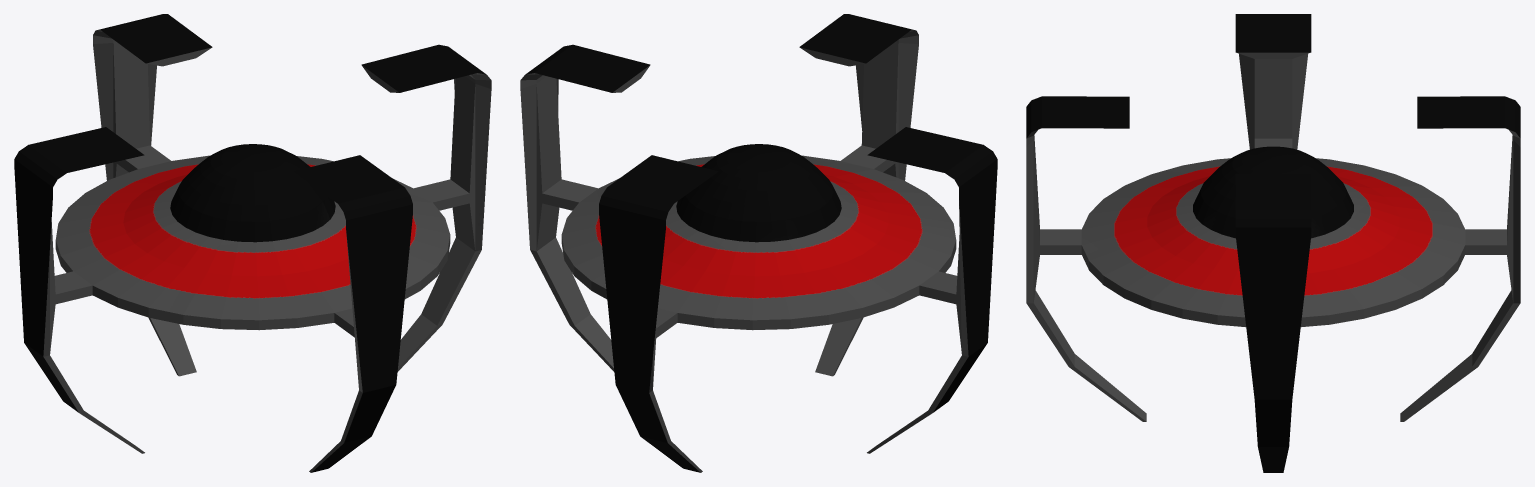
Rendered from AlienPlanetDrill.glb.
The picture shows the model from 3 angles, left to right: view 1: azimuth 30°, elevation 25°; view 2: azimuth 150°, elevation 25°; view 3: azimuth 270°, elevation 25°; orthographic projection. The views are drawn at different scales.
Parts seen in each view (by area): view 1: Cylinder; view 2: Cylinder; view 3: Cylinder.
Part boxes in pixels (x1,y1,x2,y2): Cylinder: [14, 14, 491, 472]; Cylinder: [520, 14, 997, 472]; Cylinder: [1026, 14, 1520, 472].
Size of the model in its own units: 6.12 by 4.17 by 6.12.
Materials: 1 (1 with a texture image).
